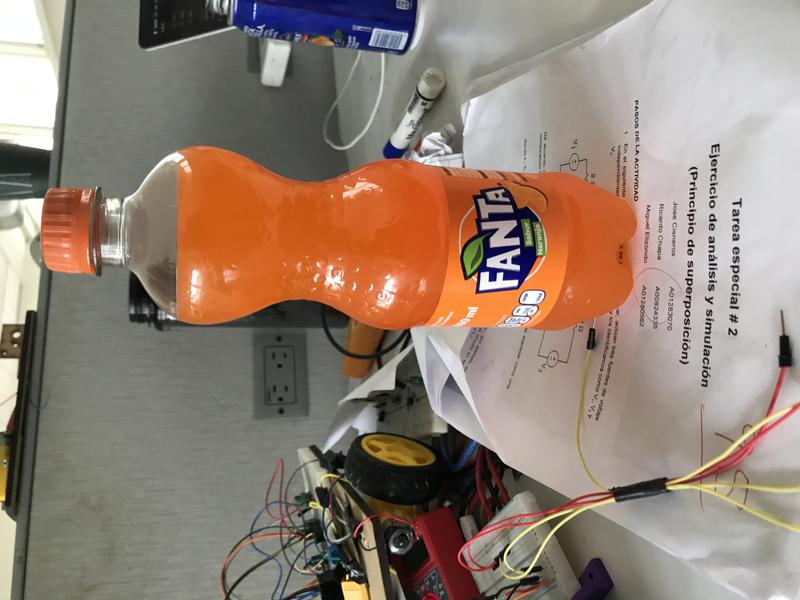fanta: (42, 146, 638, 332)
